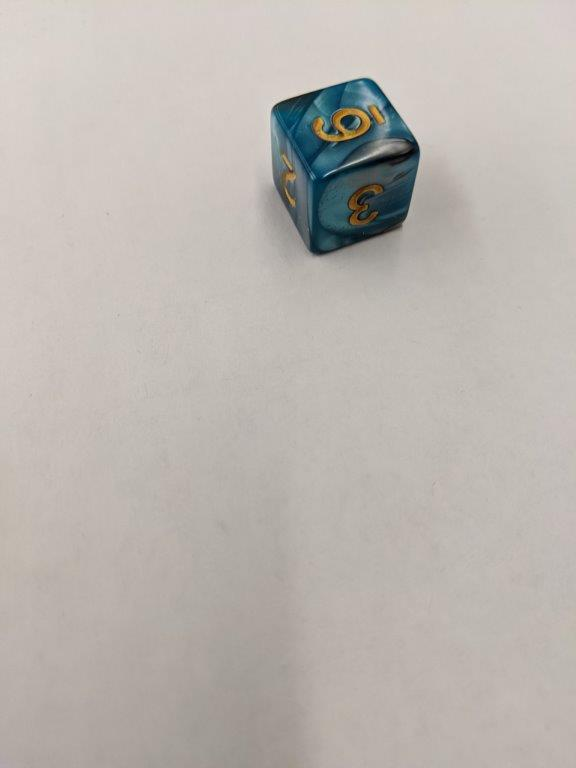d6-6: (273, 77, 421, 258)
